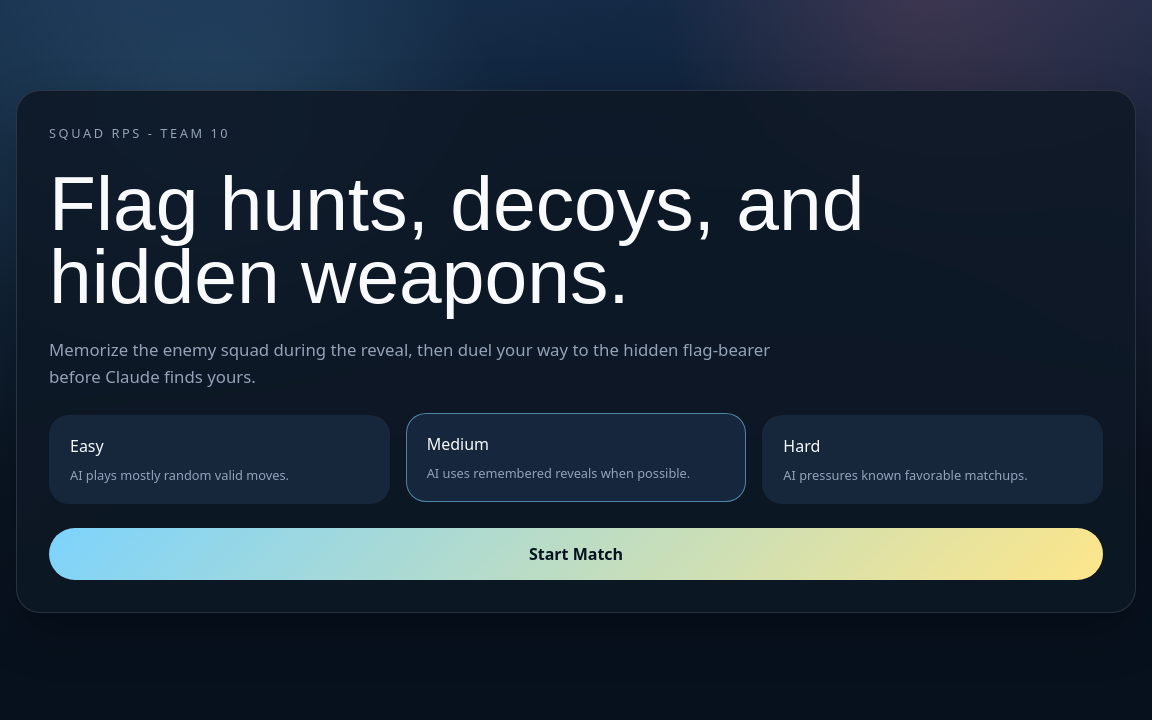
App › starts a match and renders hidden enemy information
What coordinates should you click on to do the following:
click the button "Start Match"
I would click on:
 (576, 554)
Its box is x1=49 y1=528 x2=1103 y2=580.
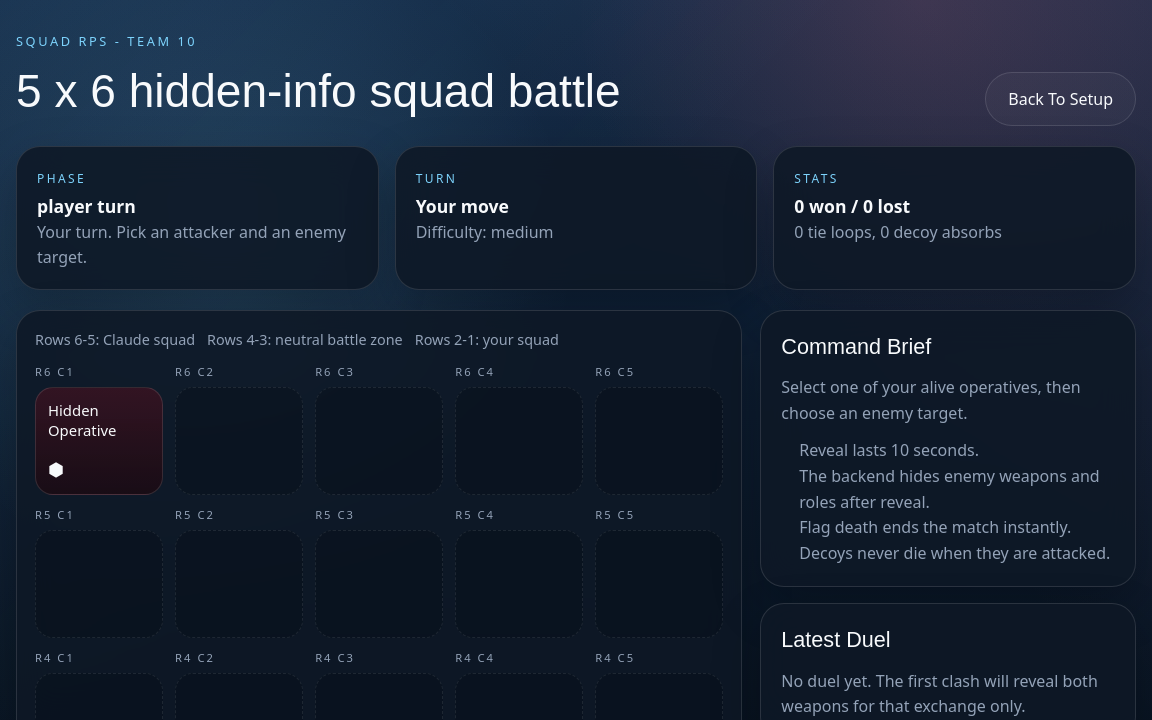
Check: the button with aria-label "Enemy silhouette" is shown, box x1=35 y1=387 x2=163 y2=495
